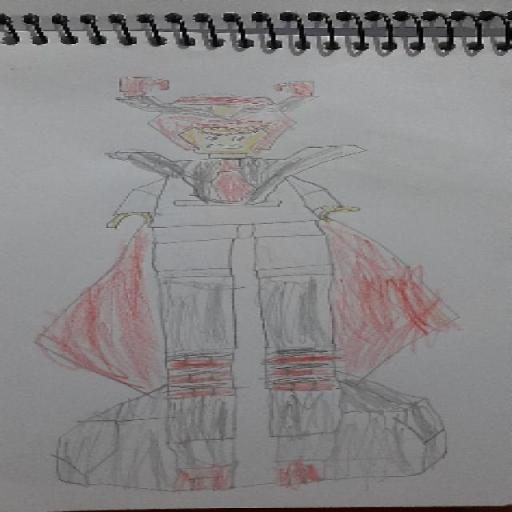person: (28, 58, 463, 510)
